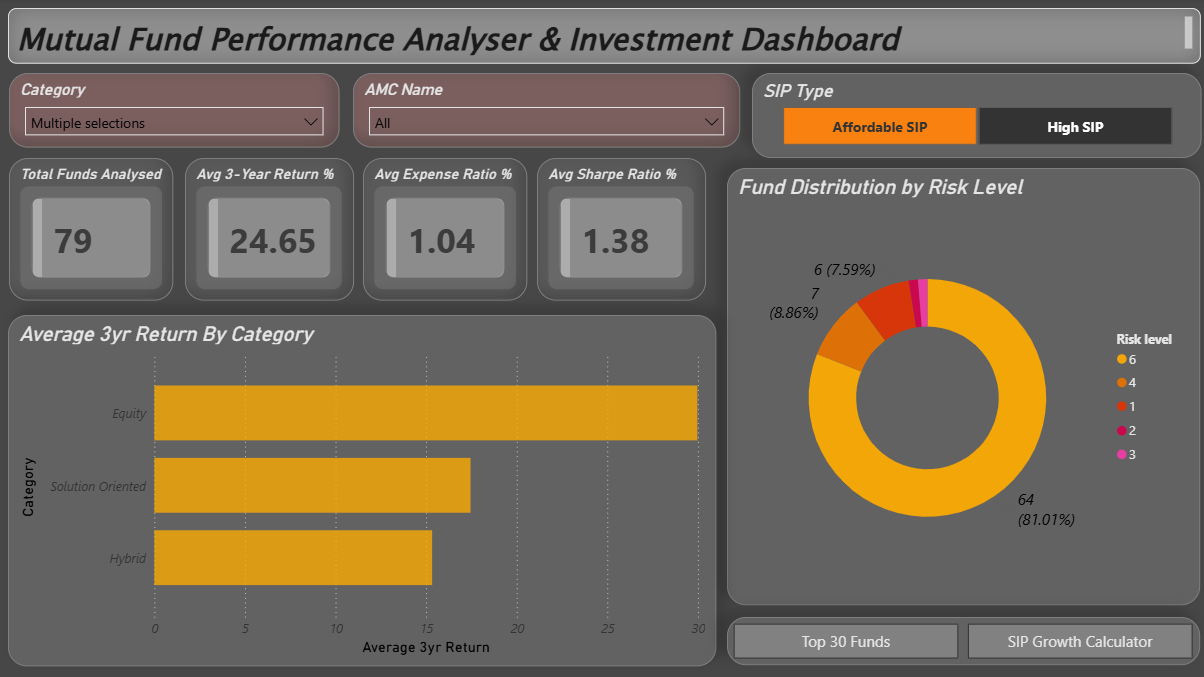

What the dashboard file says about the page in this screenshot:
{"tool":"powerbi","page":{"name":"Market Overview","canvas":[1280,720],"ordinal":0},"visuals":[{"type":"cardVisual","title":"Total Funds Analysed","fields":{"Data":["categories.Total Funds"]},"box":[10,168.6,174.3,151.4],"z":0},{"type":"cardVisual","title":"Avg 3-Year Return %","fields":{"Data":["categories.Avg Return 3yr"]},"box":[195.7,168.6,178.6,151.4],"z":1000},{"type":"cardVisual","title":" Avg Sharpe Ratio %","fields":{"Data":["categories.Avg Sharpe"]},"box":[568.6,168.6,178.6,151.4],"z":2000},{"type":"cardVisual","title":"Avg Expense Ratio %","fields":{"Data":["categories.Avg Expense Ratio"]},"box":[384.3,168.6,174.3,151.4],"z":3000},{"type":"donutChart","title":"Fund Distribution by Risk Level","fields":{"Y":["categories.Total Funds"],"Category":["cleaned_mutual_funds.risk_level"]},"box":[770,178.6,501.4,462.9],"z":4000},{"type":"clusteredBarChart","title":"Average 3yr Return By Category ","fields":{"Category":["categories.category"],"Y":["categories.Avg Return 3yr"]},"box":[8.1,334.1,750.5,371.9],"z":5000},{"type":"slicer","title":"Category","fields":{"Values":["categories.category"]},"box":[10,78.6,350,78.6],"z":6000},{"type":"slicer","title":"AMC Name ","fields":{"Values":["cleaned_mutual_funds.amc_name"]},"box":[374.3,78.6,410,78.6],"z":7000},{"type":"slicer","title":"SIP Type","fields":{"Values":["cleaned_mutual_funds.sip_type"]},"box":[795.7,78.6,475.7,90],"z":8000},{"type":"textbox","box":[8.6,0,1271.4,54.3],"z":9000},{"type":"textbox","box":[8.6,10,1262.9,58.6],"z":10000},{"type":"pageNavigator","box":[770,654.3,501.4,51.4],"z":11000}]}

Visuals, with their boxes in screenshot pixels (x1, y1, x2, y2), scaled from the page's 1280x720 canvas onto the 1204x677 screenshot:
"Total Funds Analysed" cardVisual: <region>9, 159, 173, 301</region>
"Avg 3-Year Return %" cardVisual: <region>184, 159, 352, 301</region>
" Avg Sharpe Ratio %" cardVisual: <region>535, 159, 703, 301</region>
"Avg Expense Ratio %" cardVisual: <region>361, 159, 525, 301</region>
"Fund Distribution by Risk Level" donutChart: <region>724, 168, 1196, 603</region>
"Average 3yr Return By Category " clusteredBarChart: <region>8, 314, 714, 664</region>
"Category" slicer: <region>9, 74, 339, 148</region>
"AMC Name " slicer: <region>352, 74, 738, 148</region>
"SIP Type" slicer: <region>748, 74, 1196, 159</region>
textbox: <region>8, 0, 1203, 51</region>
textbox: <region>8, 9, 1196, 65</region>
pageNavigator: <region>724, 615, 1196, 664</region>
